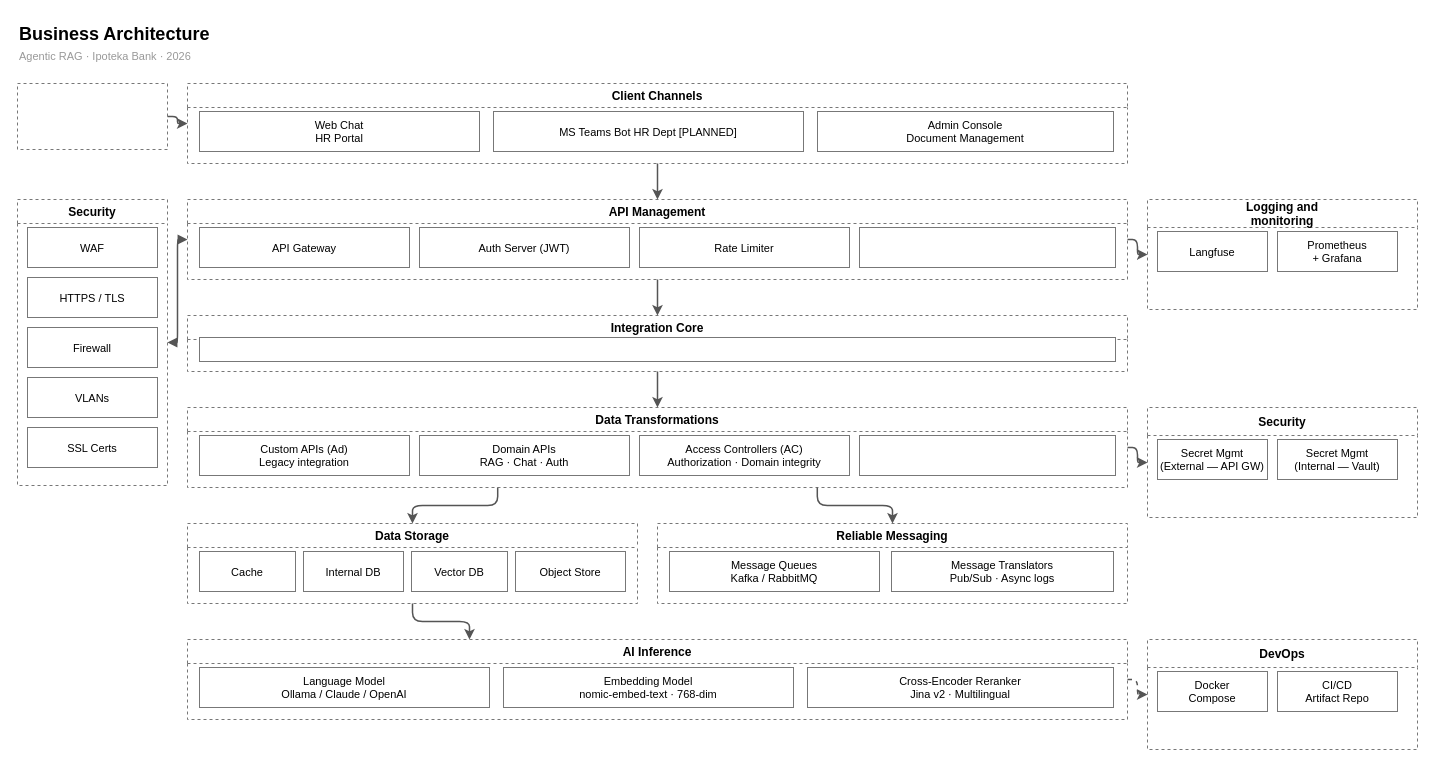
Some shapes in this 1435 by 767 pixel diagram are drawn without their labels. Here are the shapes that lost their labels. From the top down, the centre of each, then its label:
At (92,116): "Traffic management".
At (987,247): "SSE / Streaming".
At (657,349): "Service Mesh".
At (987,455): "Message Processors (MP) Routing · Transform · Validate".
